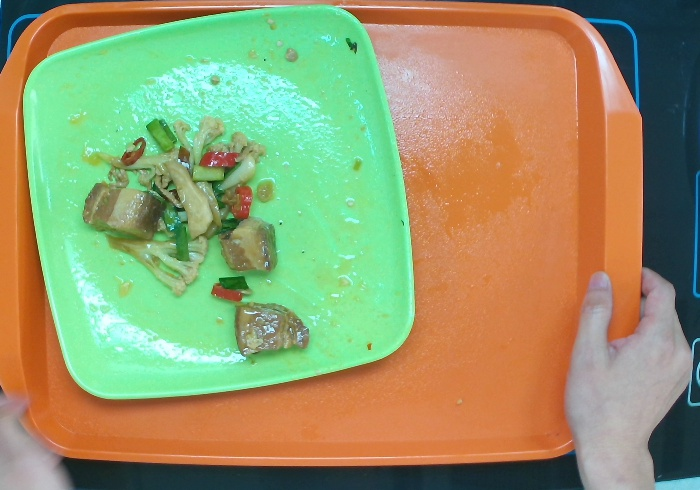ZNLD-Lv_Fang_Pan: (17, 1, 424, 406)
